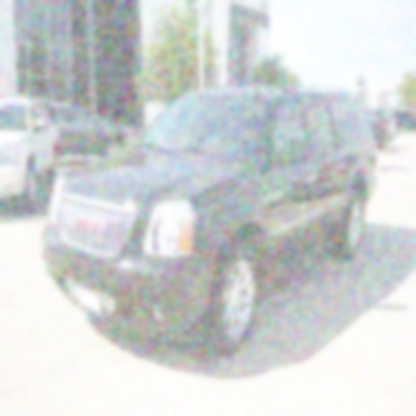Vehicle: (44, 84, 379, 357)
